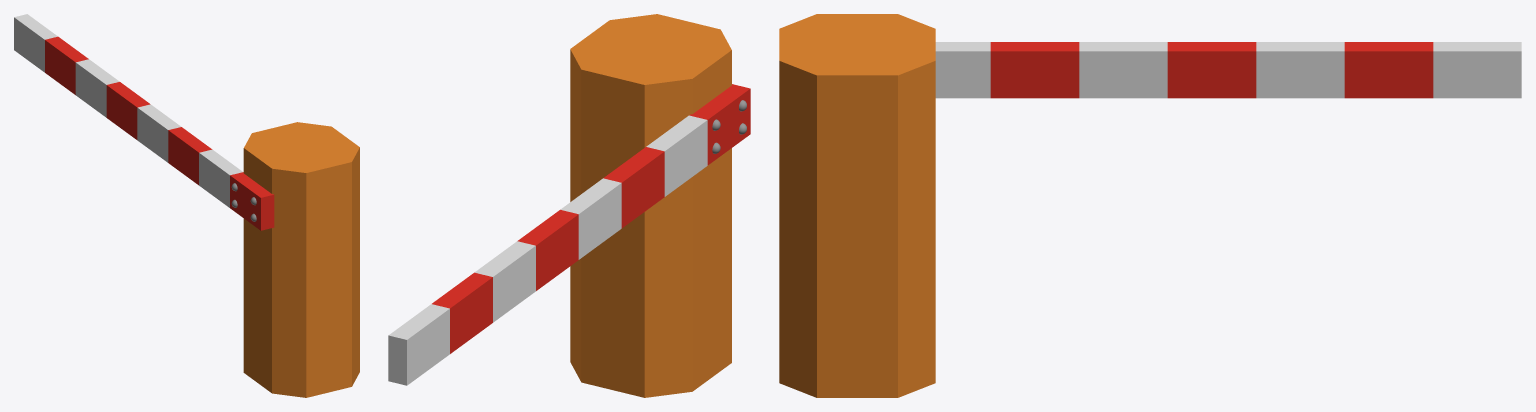
Rendered from Engel 5.fbx.
3 views of the same model, side by side, from view 1: azimuth 30°, elevation 25°; view 2: azimuth 150°, elevation 25°; view 3: azimuth 270°, elevation 25° (orthographic). The views are drawn at different scales.
Visible parts, largest first — view 1: Cube.002, Cube.004; view 2: Cube.002, Cube.004; view 3: Cube.002, Cube.004.
Boxes of the visible parts, x1,y1,x2,y2 form: Cube.002: (243, 122, 359, 397); Cube.004: (14, 14, 274, 230); Cube.002: (570, 14, 731, 397); Cube.004: (388, 84, 750, 385); Cube.002: (779, 14, 935, 397); Cube.004: (935, 42, 1521, 98).
Bounding box in the file's own units: 0.9485 × 1.97 × 4.11.
